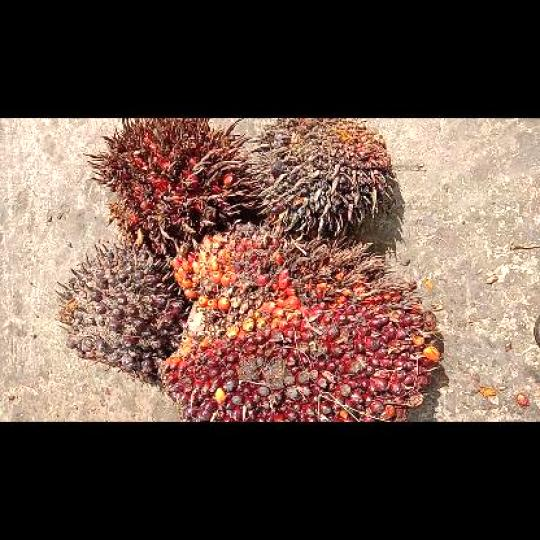kurang masak: (58, 241, 186, 384)
masak: (162, 226, 441, 420)
terlalu masak: (85, 120, 260, 249)
